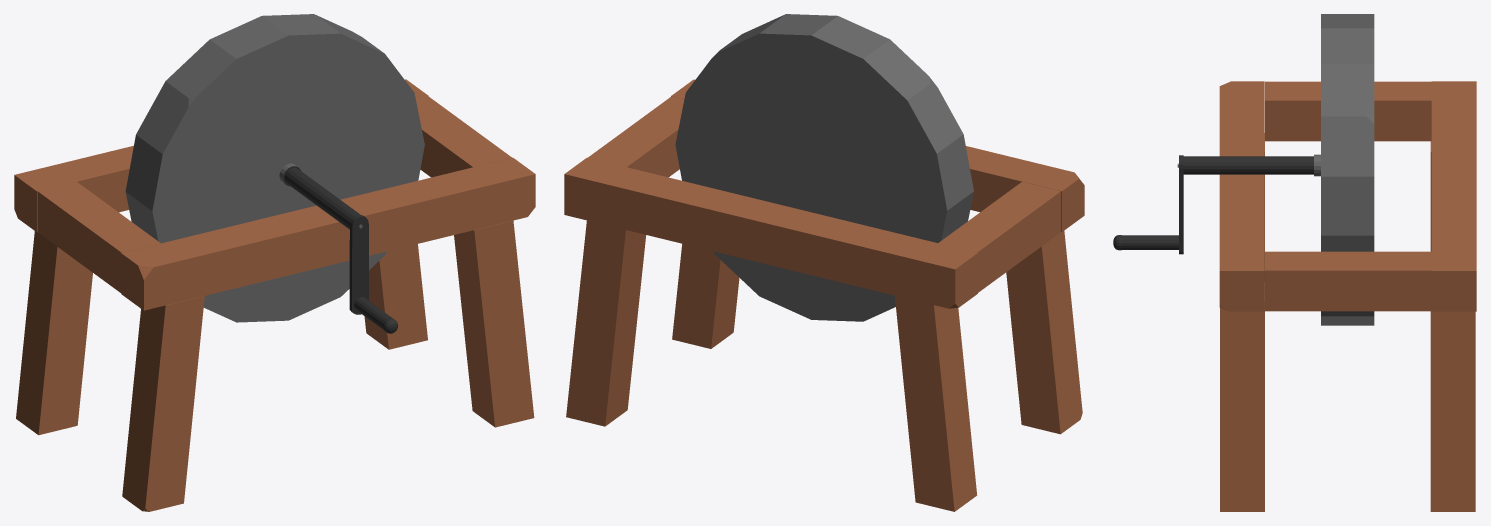
File: grinding.glb
The picture shows the model from 3 angles, left to right: view 1: azimuth 30°, elevation 25°; view 2: azimuth 150°, elevation 25°; view 3: azimuth 270°, elevation 25°; orthographic projection.
Parts seen in each view (by area): view 1: grinding; view 2: grinding; view 3: grinding.
Boxes of the visible parts, x1,y1,x2,y2 form: grinding: (14, 14, 535, 511); grinding: (564, 14, 1084, 511); grinding: (1113, 14, 1476, 511).
Size of the model in its own units: 0.4474 by 0.4286 by 0.3624.
1 material, 1 textured.
